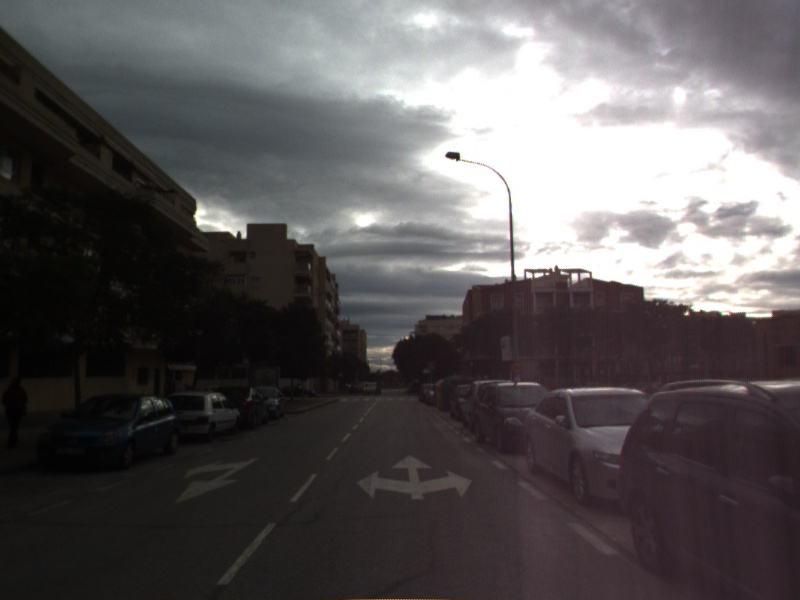STRAIGHT_LEFT_RIGHT: (354, 452, 474, 501)
